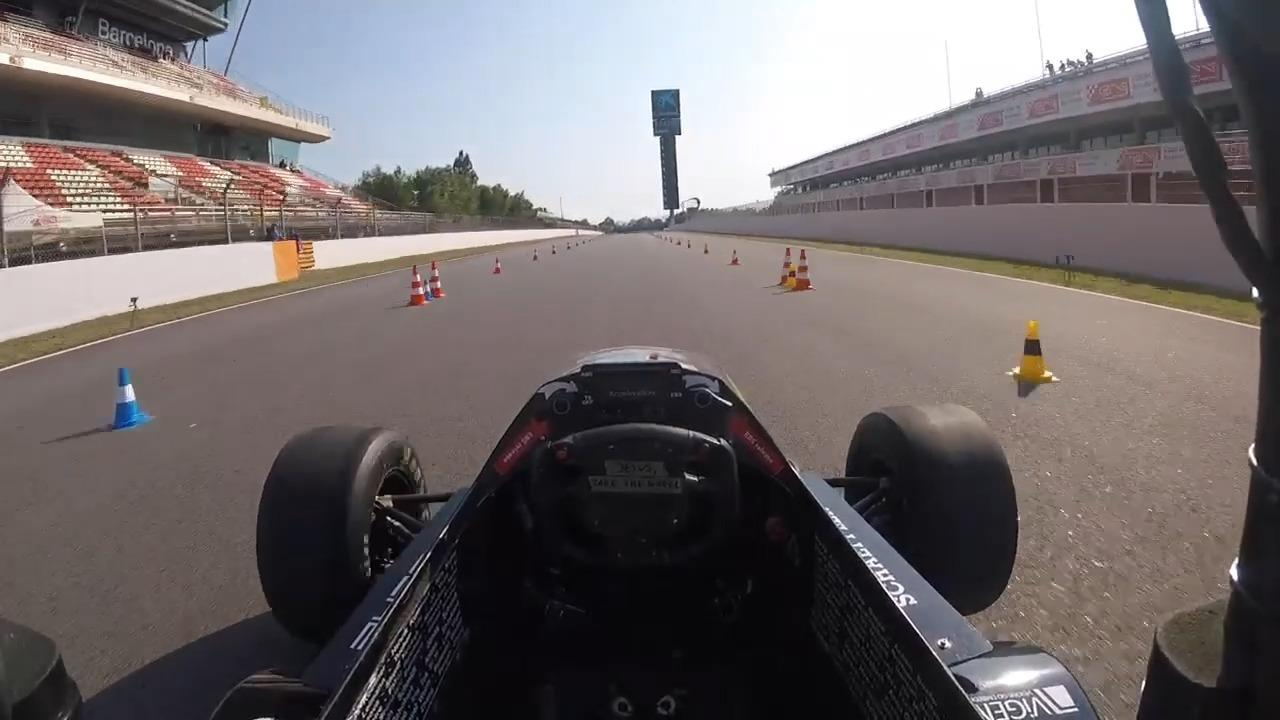blue_cone: (102, 361, 153, 433), (421, 278, 435, 301)
large_orange_cone: (793, 248, 814, 291), (408, 263, 427, 306), (778, 245, 797, 285), (427, 260, 445, 298)
orange_cone: (492, 257, 504, 275), (729, 248, 741, 265)
yellow_cone: (1007, 315, 1058, 386), (784, 262, 800, 287)
